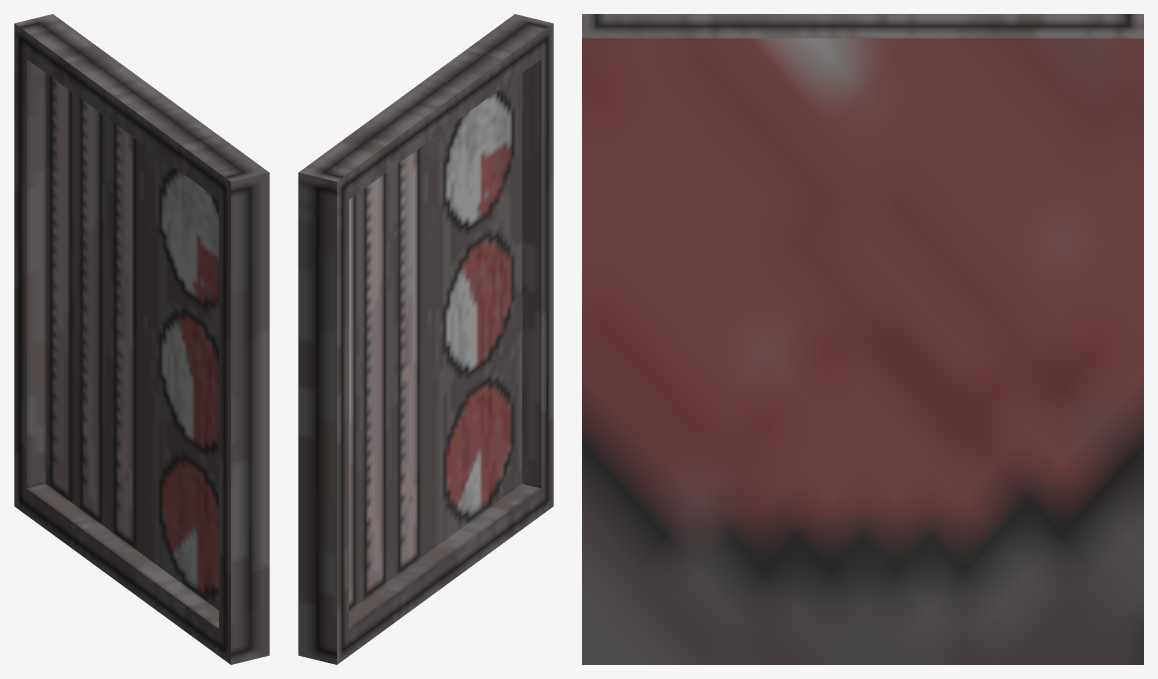
The model's file is Oxygen.fbx.
3 views of the same model, side by side, from view 1: azimuth 30°, elevation 25°; view 2: azimuth 150°, elevation 25°; view 3: azimuth 270°, elevation 25° (orthographic). The views are drawn at different scales.
Parts seen in each view (by area): view 1: Cube; view 2: Cube; view 3: Cube.
Part boxes in pixels (x1,y1,x2,y2): Cube: (14,14,269,664); Cube: (298,14,553,664); Cube: (582,14,1143,664).
Size of the model in its own units: 25 by 300 by 244.
Materials: 1 (1 with a texture image).
